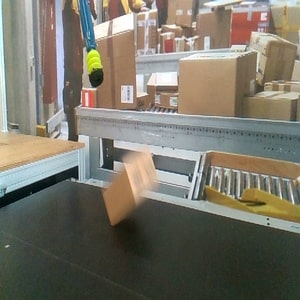box: (102, 147, 161, 227)
